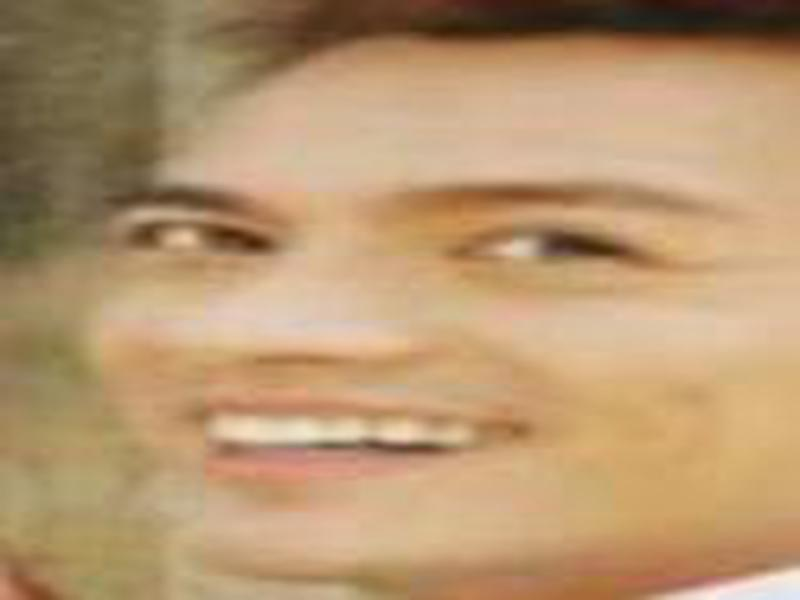without_mask: (83, 33, 800, 600)
